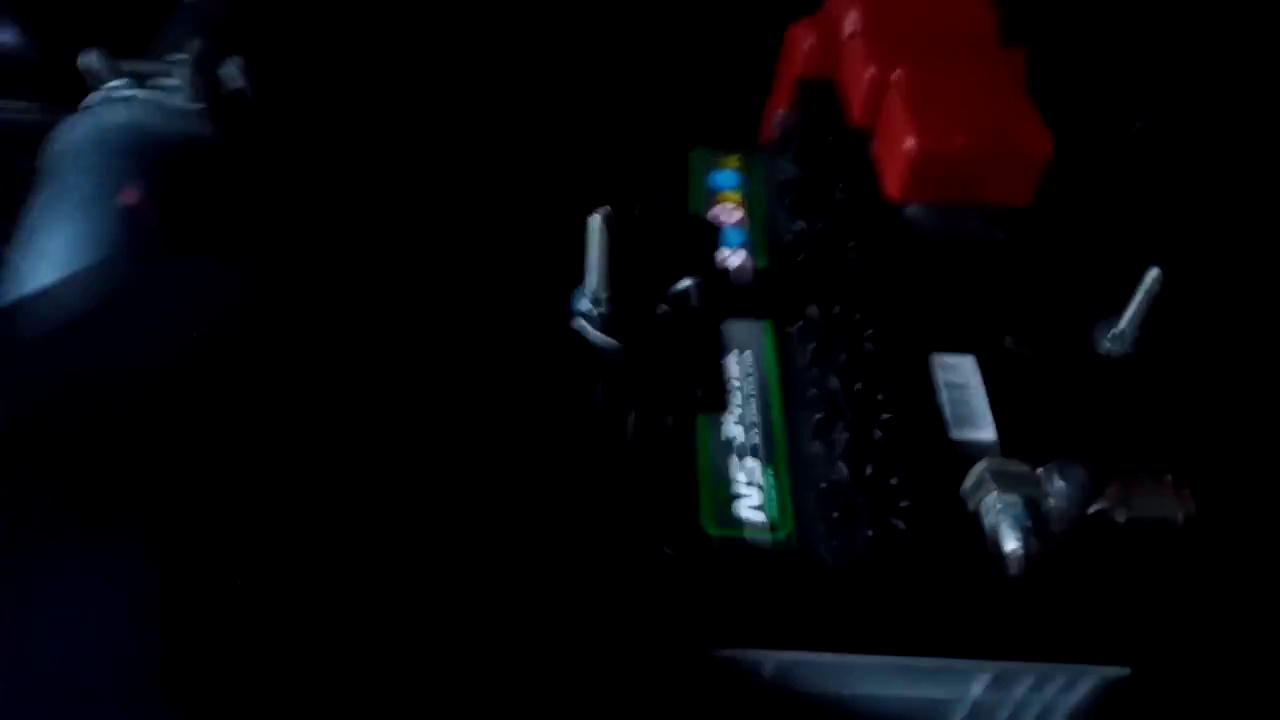battery: (696, 82, 1131, 672)
neg_connected: (947, 409, 1149, 575)
pos_connected: (741, 28, 1067, 214)
